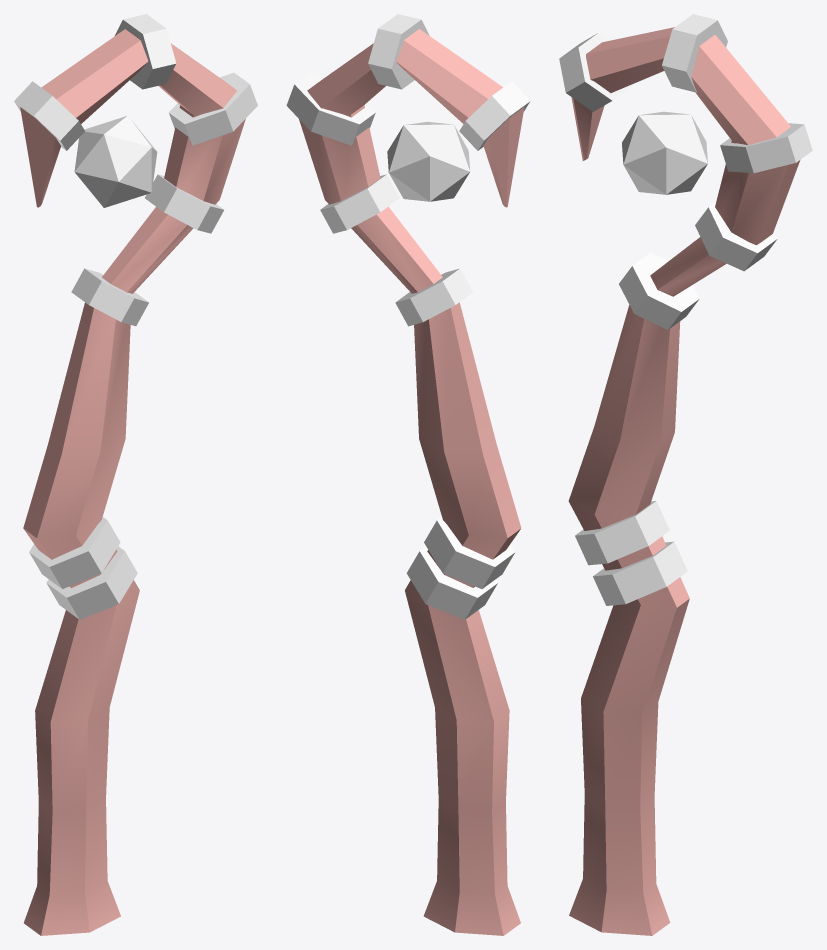
File: Scettro del druido.fbx
3 views of the same model, side by side, from view 1: azimuth 30°, elevation 25°; view 2: azimuth 150°, elevation 25°; view 3: azimuth 330°, elevation 25° (orthographic). The views are drawn at different scales.
Visible parts, largest first — view 1: pCylinder2, pPlatonic1, pCylinder3, pCylinder4, pCylinder7, pCylinder8, pCylinder5, pCylinder6, pCylinder9; view 2: pCylinder2, pPlatonic1, pCylinder3, pCylinder4, pCylinder7, pCylinder8, pCylinder5, pCylinder6, pCylinder9; view 3: pCylinder2, pPlatonic1, pCylinder3, pCylinder4, pCylinder5, pCylinder7, pCylinder8, pCylinder6, pCylinder9.
Part boxes in pixels (<box>): pCylinder2: <box>20,29,245,935</box>; pPlatonic1: <box>74,115,157,207</box>; pCylinder3: <box>46,546,137,619</box>; pCylinder4: <box>29,517,120,588</box>; pCylinder7: <box>169,72,257,145</box>; pCylinder8: <box>115,14,176,89</box>; pCylinder5: <box>71,268,148,326</box>; pCylinder6: <box>145,174,223,233</box>; pCylinder9: <box>14,81,84,150</box>; pCylinder2: <box>299,29,524,935</box>; pPlatonic1: <box>387,121,470,201</box>; pCylinder3: <box>406,546,497,619</box>; pCylinder4: <box>424,517,515,588</box>; pCylinder7: <box>286,72,375,145</box>; pCylinder8: <box>368,14,429,89</box>; pCylinder5: <box>395,268,472,326</box>; pCylinder6: <box>320,174,399,233</box>; pCylinder9: <box>459,81,530,150</box>; pCylinder2: <box>568,27,800,935</box>; pPlatonic1: <box>622,111,707,194</box>; pCylinder3: <box>593,541,687,605</box>; pCylinder4: <box>575,501,669,565</box>; pCylinder5: <box>619,252,699,329</box>; pCylinder7: <box>720,123,812,173</box>; pCylinder8: <box>662,14,727,92</box>; pCylinder6: <box>695,202,777,271</box>; pCylinder9: <box>559,32,633,111</box>.
Size of the model in its own units: 49.88 by 185 by 16.37.
